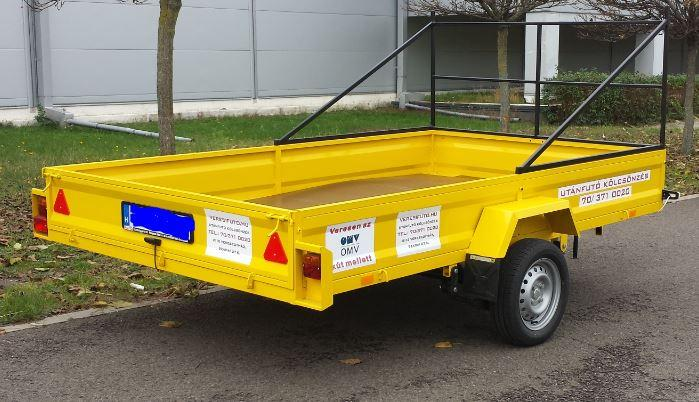trailer: (30, 126, 668, 311)
